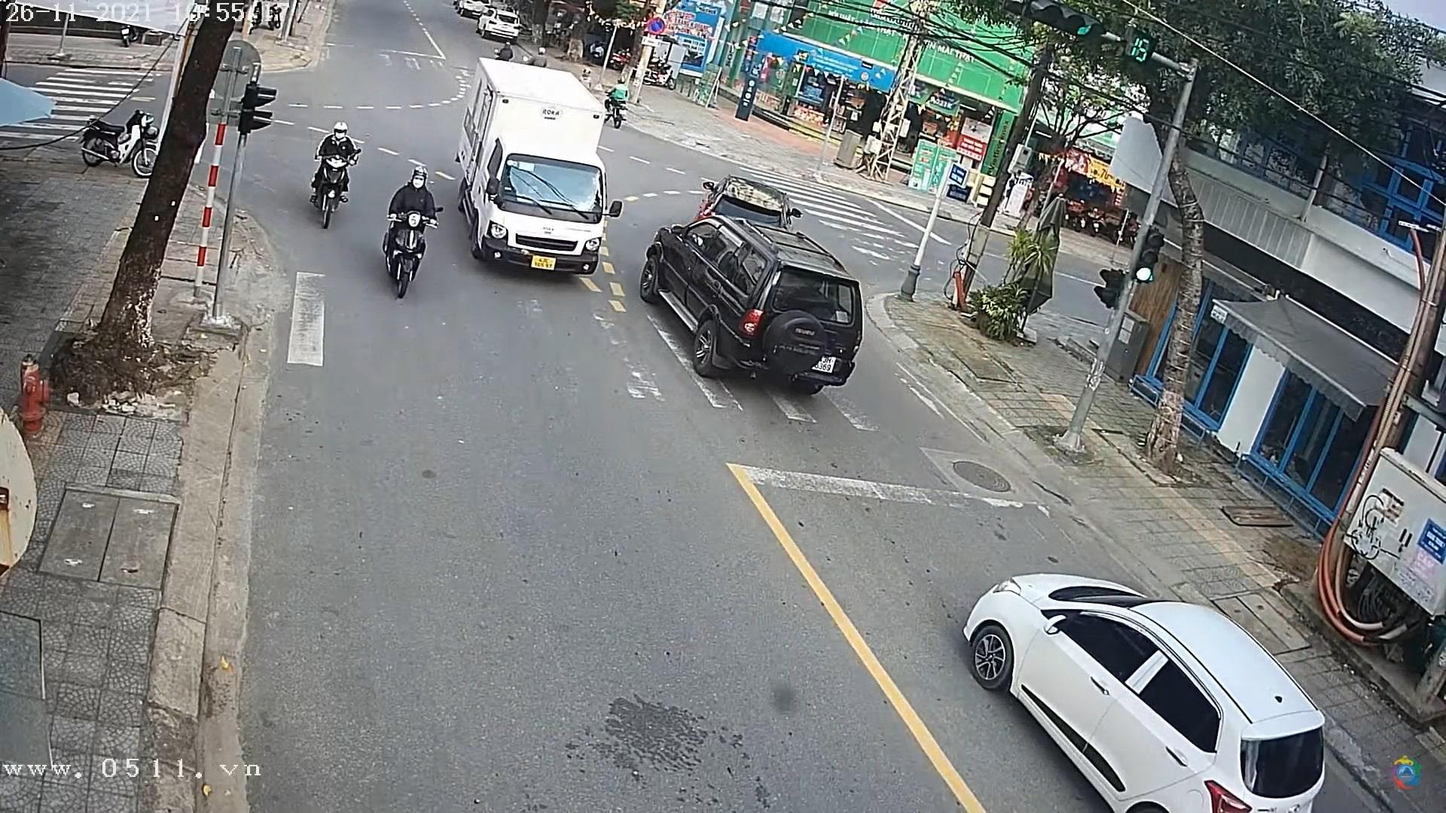bus: (638, 202, 864, 395)
car: (959, 572, 1339, 813)
motorbike: (381, 209, 438, 301), (311, 145, 350, 228)
truck: (468, 60, 614, 275)
